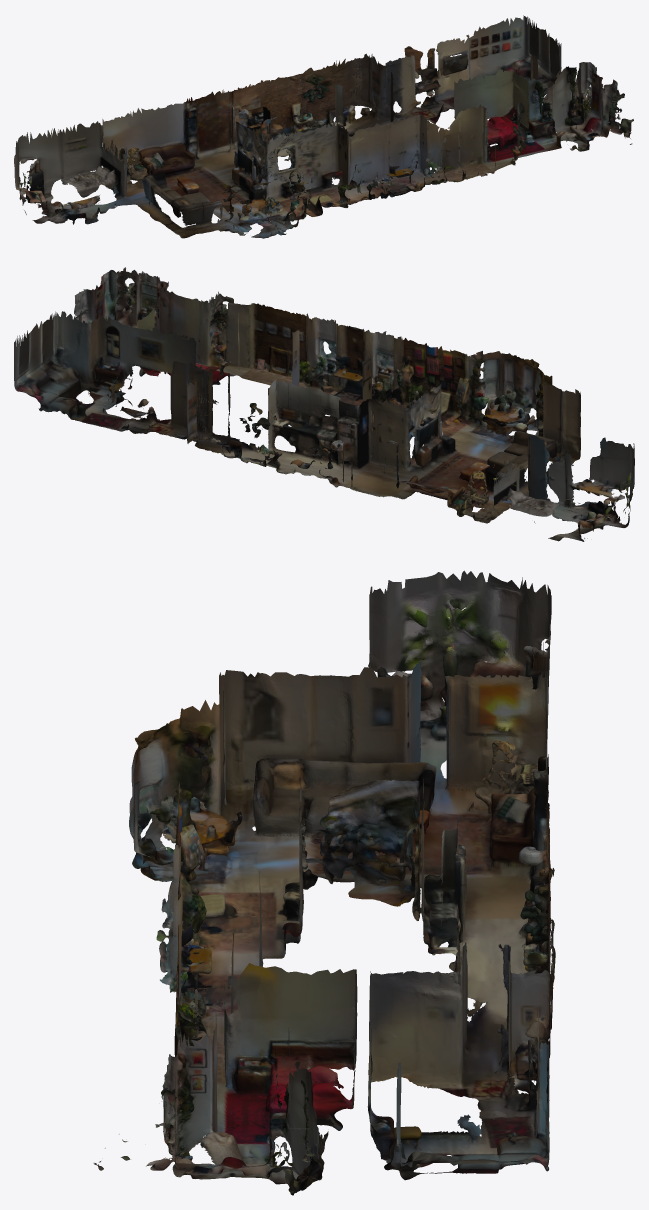
The model's file is apartment.glb.
The picture shows the model from 3 angles, top to bottom: view 1: azimuth 30°, elevation 25°; view 2: azimuth 150°, elevation 25°; view 3: azimuth 270°, elevation 25°; orthographic projection. The views are drawn at different scales.
Visible parts, largest first — view 1: apartment; view 2: apartment; view 3: apartment.
Boxes of the visible parts, left/top/right/bottom form: apartment: left=14, top=15, right=633, bottom=238; apartment: left=14, top=267, right=634, bottom=541; apartment: left=93, top=570, right=555, bottom=1195.
Bounding box in the file's own units: 23.39 × 2.69 × 8.67.
Materials: 1 (1 with a texture image).
